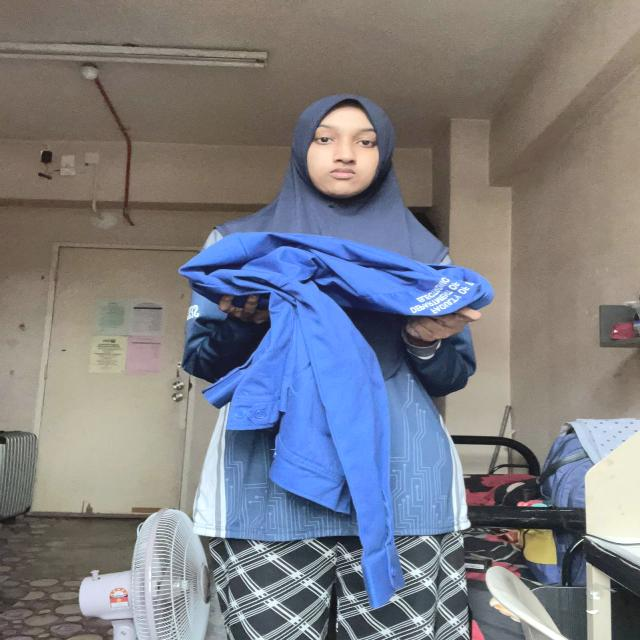person_without_labcoat: (181, 95, 478, 640)
